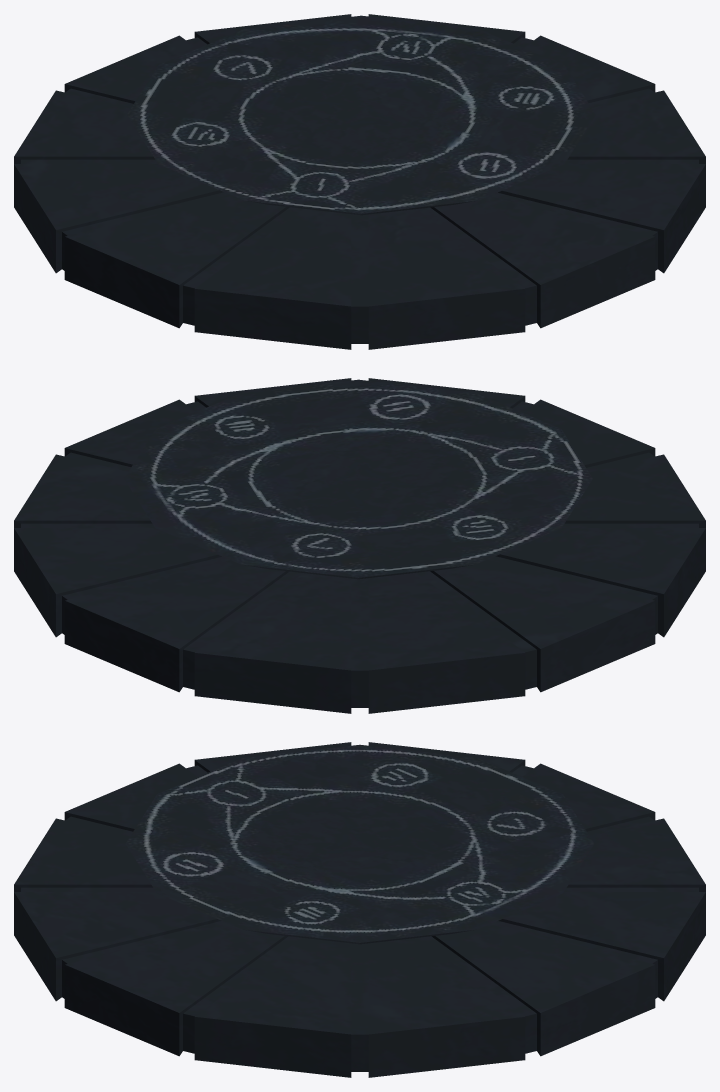
Rendered from checkpoint.glb.
3 renders of one model, top to bottom at view 1: azimuth 30°, elevation 25°; view 2: azimuth 150°, elevation 25°; view 3: azimuth 270°, elevation 25°, orthographic.
Parts seen in each view (by area): view 1: pad_col; view 2: pad_col; view 3: pad_col.
Boxes of the visible parts, <box> form: pad_col: <box>14,14,705,349</box>; pad_col: <box>14,378,705,713</box>; pad_col: <box>14,742,705,1077</box>.
Size of the model in its own units: 3.46 by 0.4885 by 3.46.
1 material, 1 textured.
